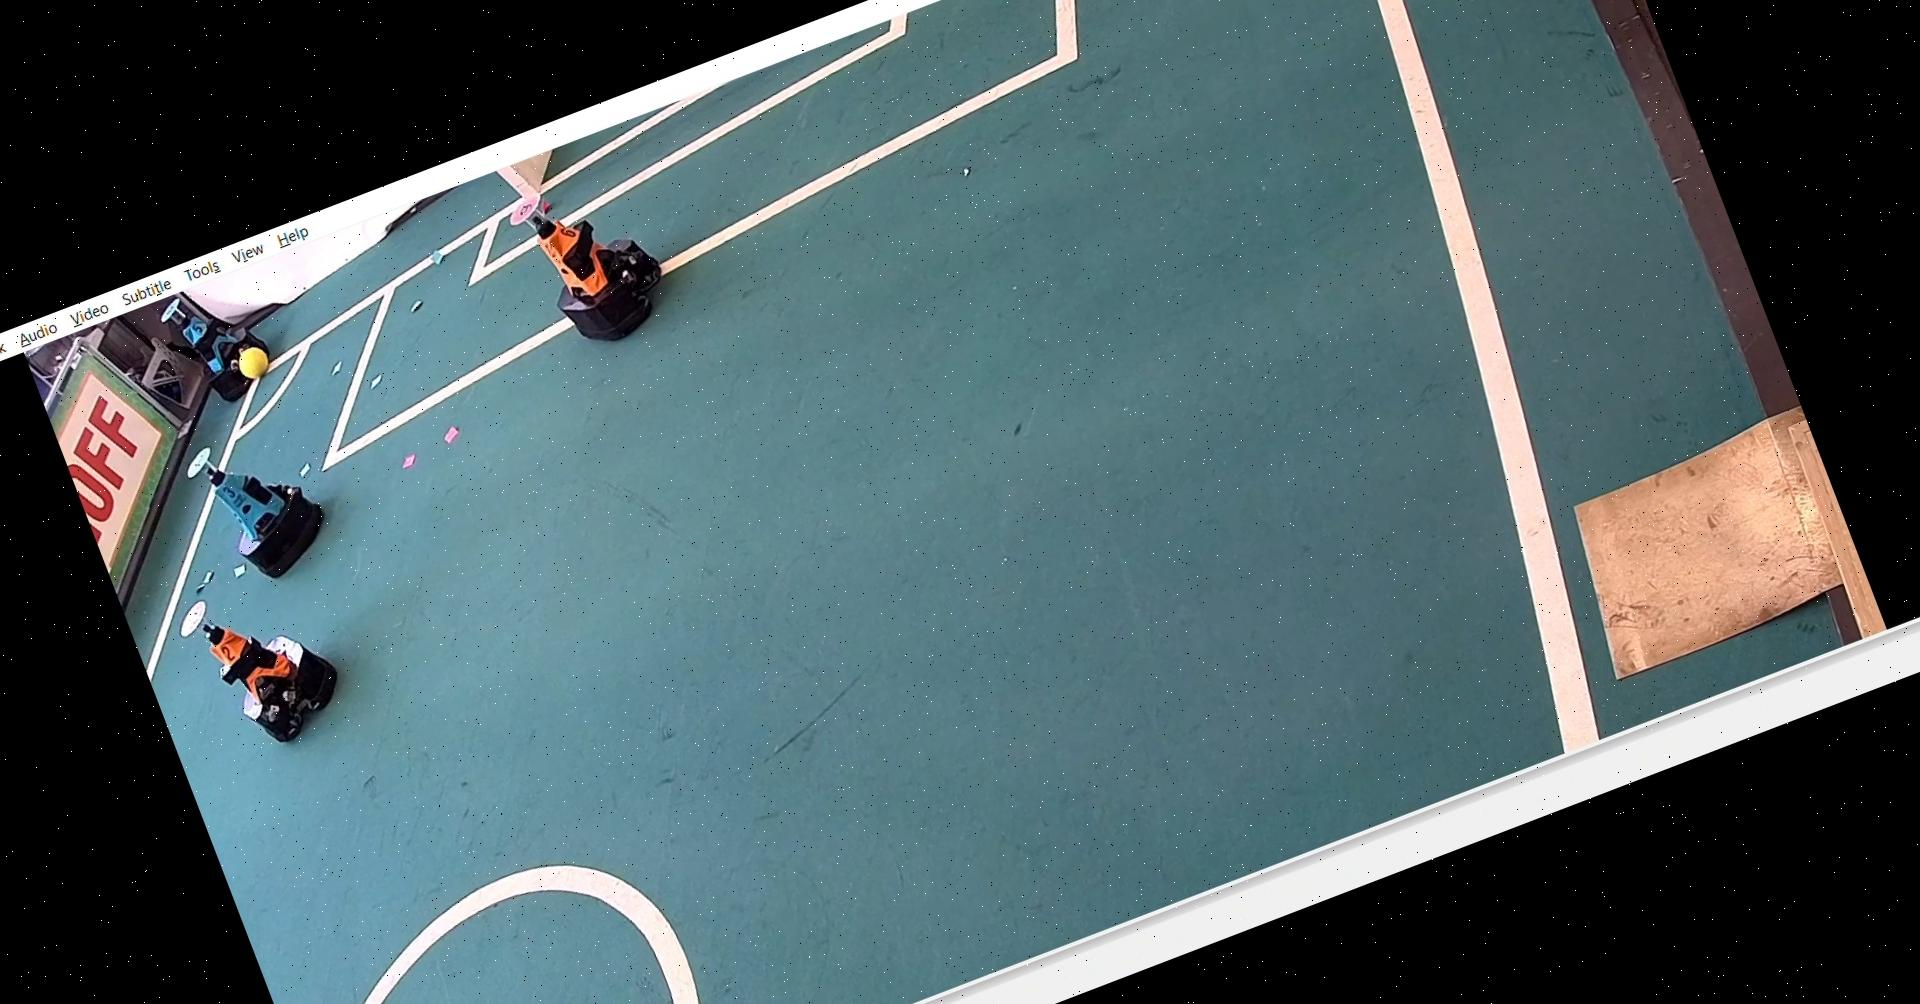Ball: (225, 331, 279, 388)
Team_Blue: (166, 410, 344, 594), (155, 273, 288, 415)
Team_Red: (163, 562, 352, 763), (505, 160, 684, 363)
